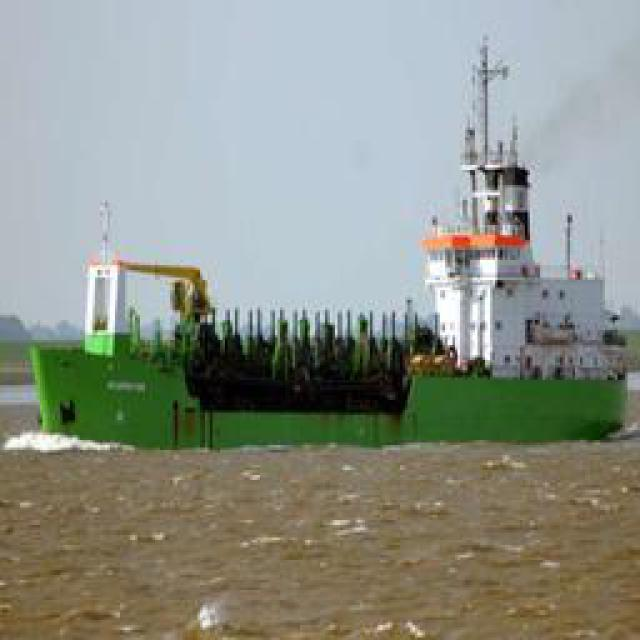Ship: (410, 26, 630, 444)
